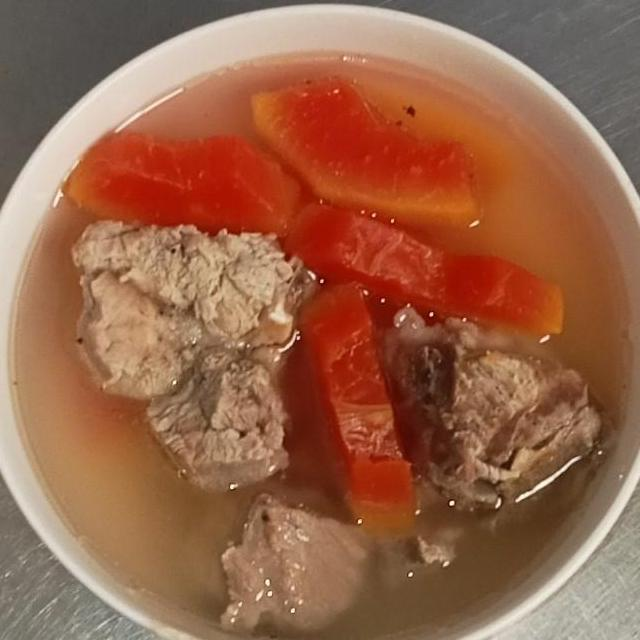thit heo: (63, 211, 322, 501), (371, 295, 610, 525), (185, 475, 479, 640)
